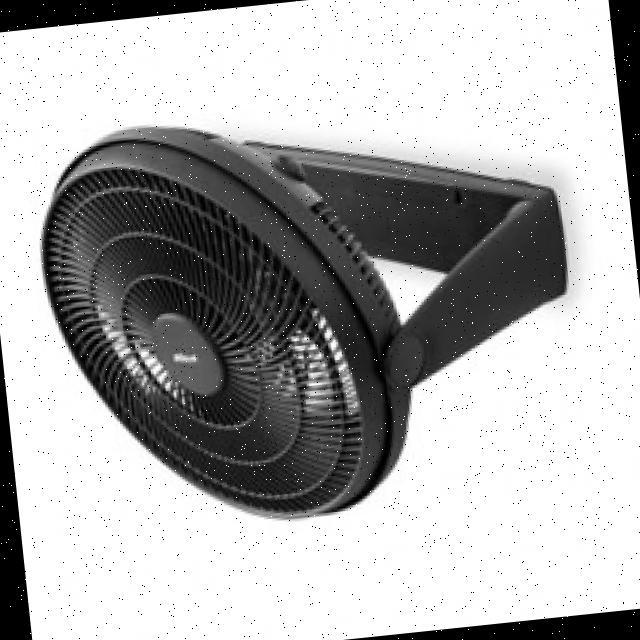fan: (16, 72, 602, 547)
